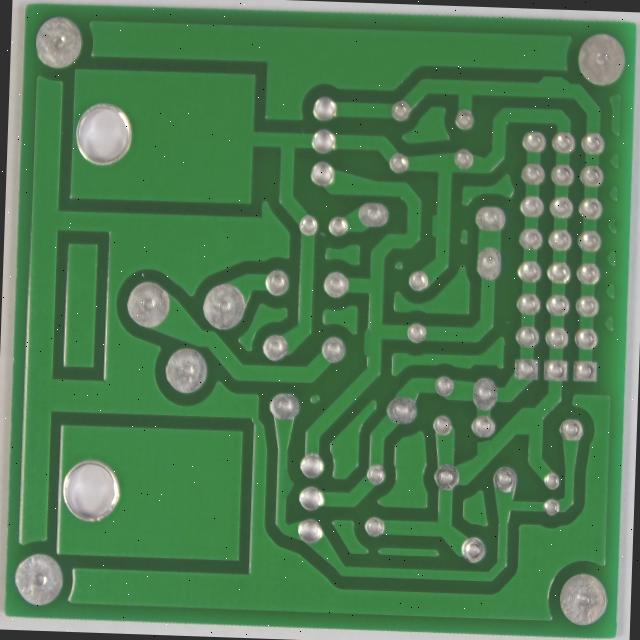spur: (273, 464, 297, 504), (530, 70, 573, 92), (358, 324, 381, 360), (470, 436, 500, 461), (426, 207, 444, 240)
